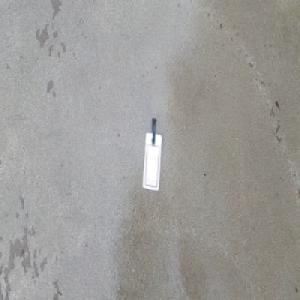LuggageTag: (140, 116, 162, 193)
